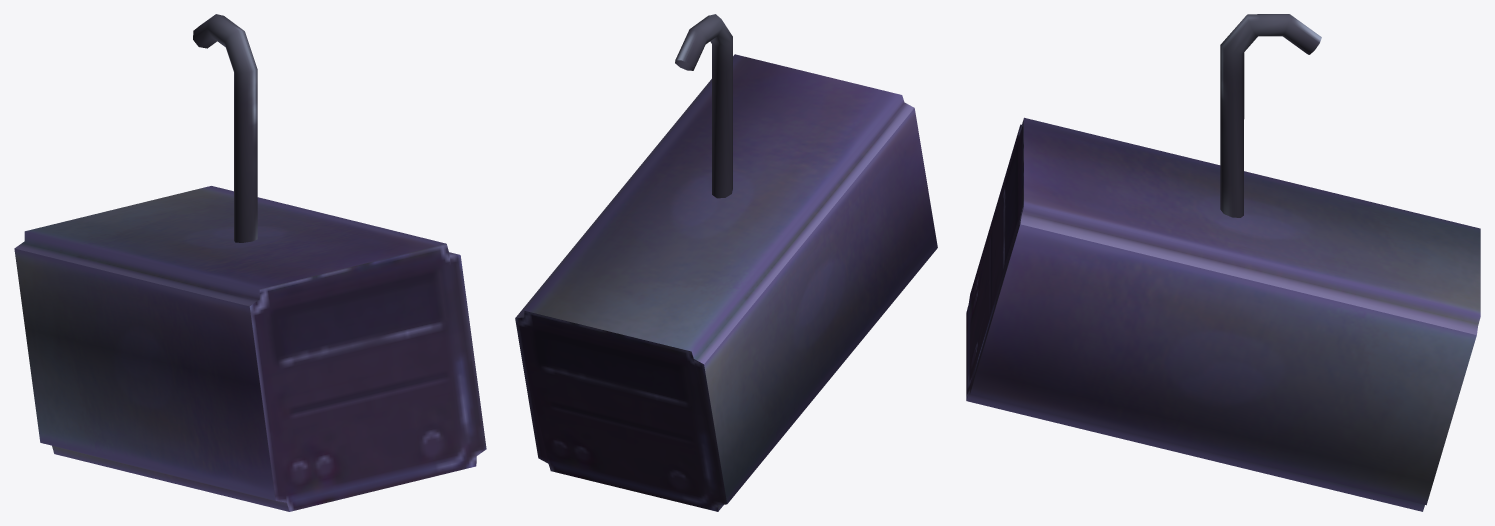
File: Julebu_Deng3_fbx.FBX
3 views of the same model, side by side, from view 1: azimuth 30°, elevation 25°; view 2: azimuth 150°, elevation 25°; view 3: azimuth 270°, elevation 25° (orthographic). The views are drawn at different scales.
Visible parts, largest first — view 1: Box001; view 2: Box001; view 3: Box001.
Boxes of the visible parts, x1,y1,x2,y2 form: Box001: (14, 14, 486, 511); Box001: (515, 14, 937, 511); Box001: (966, 14, 1480, 511).
Bounding box in the file's own units: 0.1992 × 0.4215 × 0.4332.
